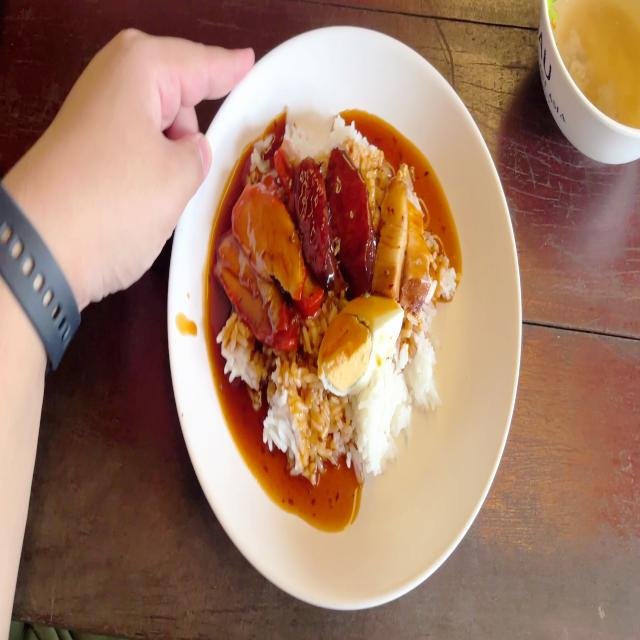boiled_egg: (320, 289, 404, 396)
chainese_sausage: (301, 158, 376, 286), (328, 154, 371, 286), (299, 157, 329, 270)
crispy_pork: (378, 161, 430, 298)
red_pork: (220, 181, 312, 344), (237, 187, 303, 282), (226, 249, 286, 340)
red_pork_and_crispy_pork: (216, 110, 458, 476)
rice: (357, 344, 432, 464), (265, 364, 335, 460), (229, 324, 256, 380)
